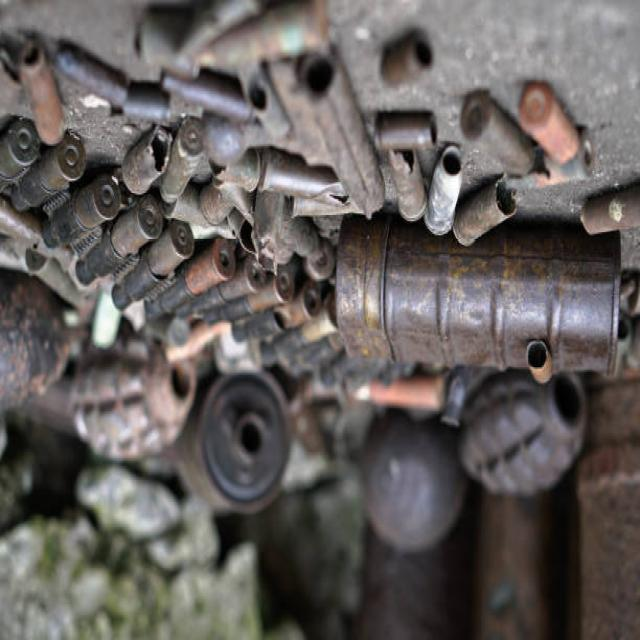grenade: (459, 360, 593, 501), (70, 322, 204, 461)
